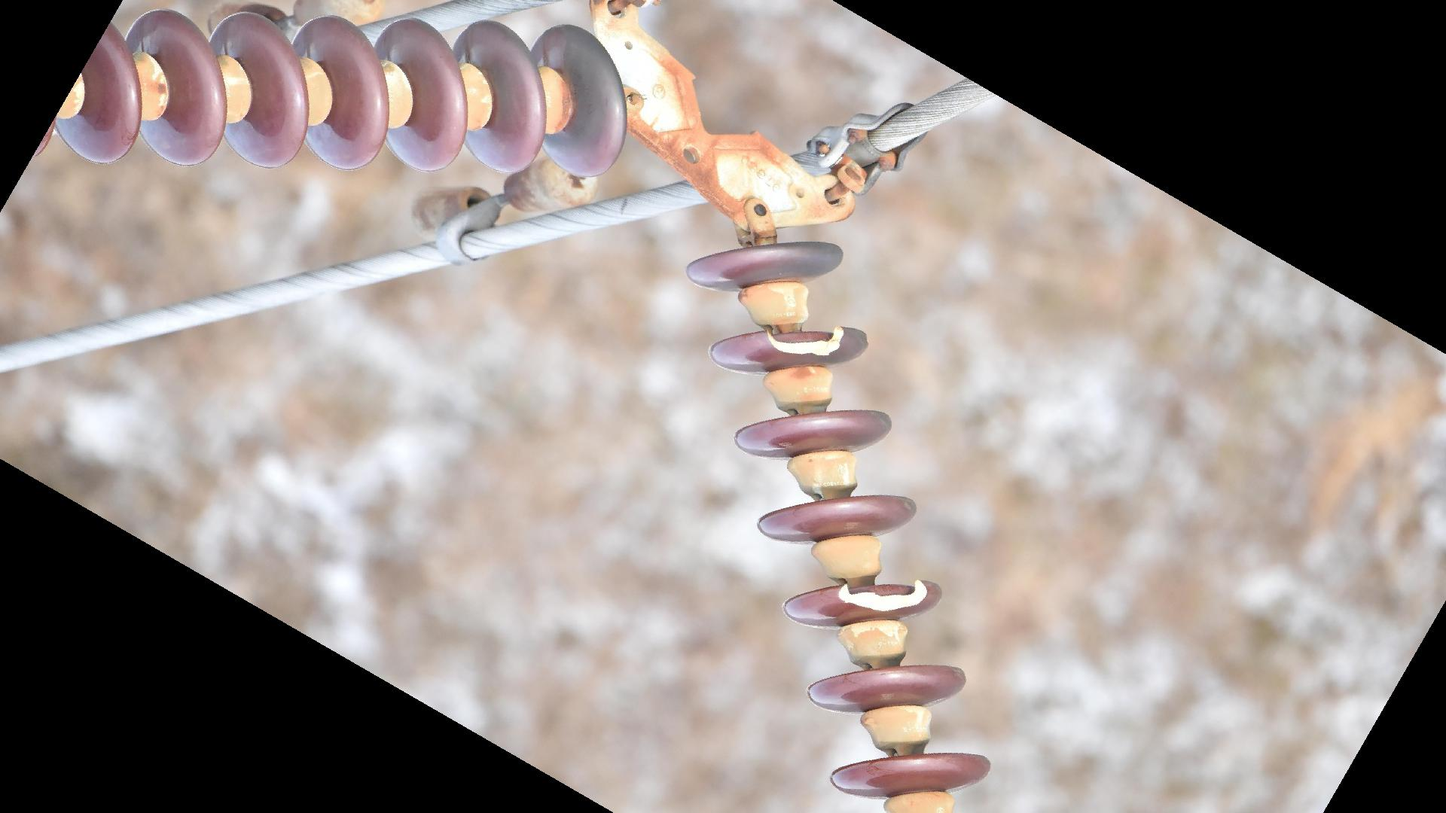insulator: (677, 233, 999, 799), (21, 5, 636, 184)
insulator_breakage: (830, 572, 934, 621), (758, 318, 851, 364)
